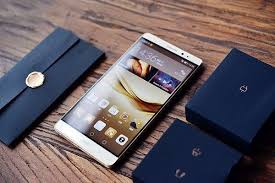mobil: (52, 31, 204, 169)
